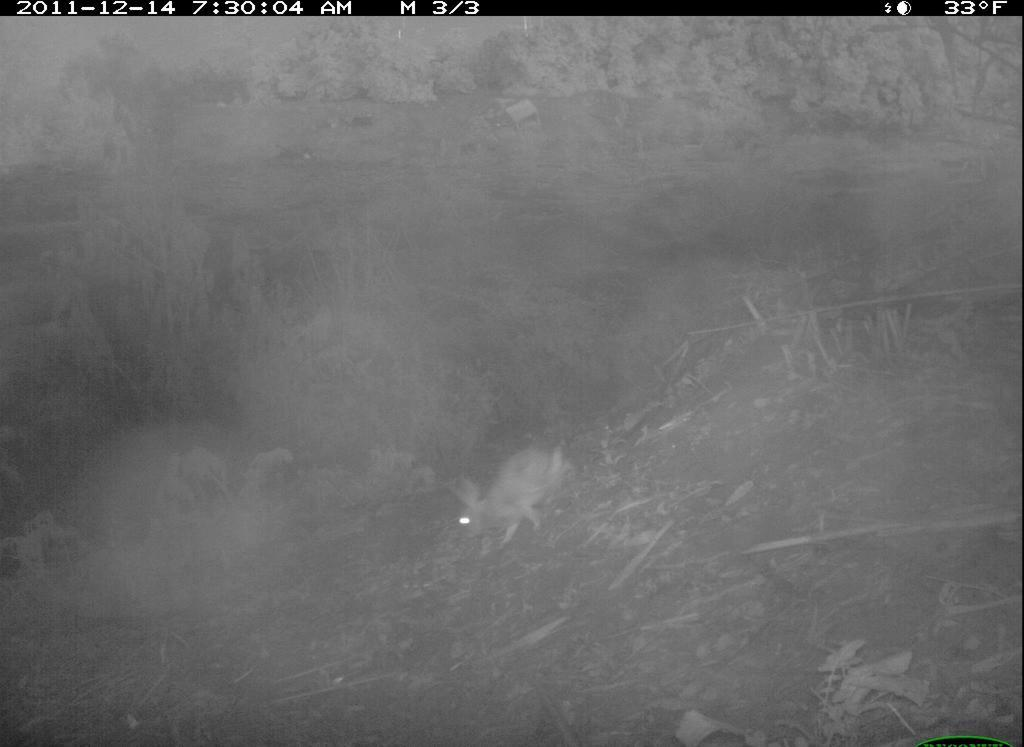rabbit: (448, 426, 581, 560)
